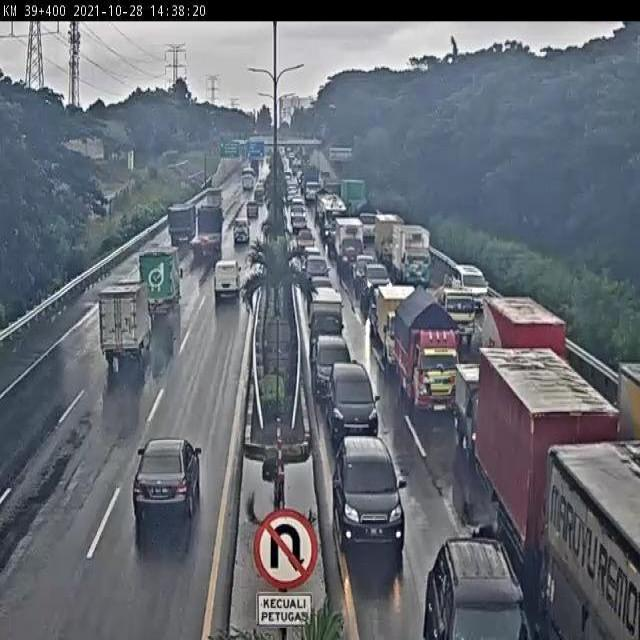big truck: (479, 344, 619, 543), (551, 442, 640, 640), (491, 278, 576, 358), (189, 209, 222, 263), (167, 205, 196, 243)
car: (415, 512, 529, 639), (128, 419, 204, 532), (337, 432, 401, 549), (327, 361, 390, 448), (311, 333, 360, 408), (454, 265, 491, 308), (203, 264, 248, 299), (363, 261, 390, 299), (232, 216, 254, 252)
small truck: (395, 286, 466, 431), (100, 279, 162, 352), (455, 362, 492, 466), (389, 219, 436, 292), (135, 245, 185, 311), (373, 282, 411, 362), (371, 205, 406, 271), (306, 288, 347, 343)
